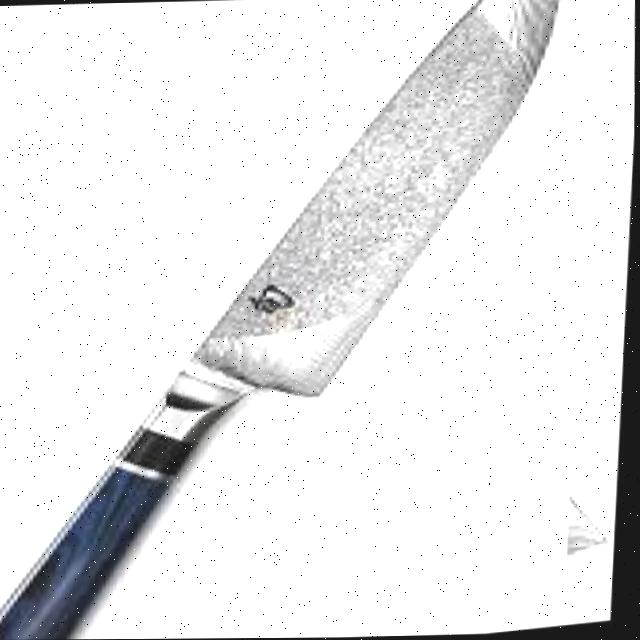knife: (0, 0, 627, 640)
